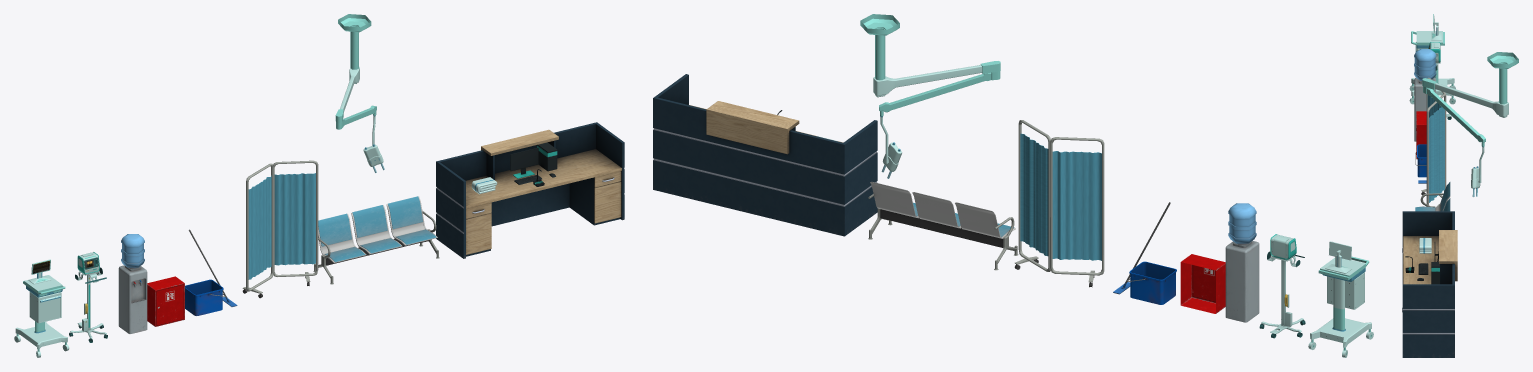
File: vr_ready_hospital_props.glb
3 renders of one model, left to right at view 1: azimuth 30°, elevation 25°; view 2: azimuth 150°, elevation 25°; view 3: azimuth 270°, elevation 25°, orthographic. The views are drawn at different scales.
Parts seen in each view (by area): view 1: reseptionDesk_geo, standingCourtains, hospitalBench, waterCooler, computerCart, powerInjector, fireExtinguisherBox, mopBucket, anesthesiaVentilator, Screen, PC; view 2: reseptionDesk_geo, standingCourtains, hospitalBench, powerInjector, waterCooler, computerCart, fireExtinguisherBox, mopBucket, anesthesiaVentilator; view 3: reseptionDesk_geo, powerInjector, standingCourtains, waterCooler, computerCart, hospitalBench, fireExtinguisherBox, mopBucket, anesthesiaVentilator, foldedBlanket_geo, PC, Keyboard.
Part boxes in pixels (x1,y1,x2,y2): reseptionDesk_geo: [436, 122, 624, 258]; standingCourtains: [242, 160, 318, 298]; hospitalBench: [313, 196, 439, 284]; waterCooler: [118, 234, 147, 333]; computerCart: [14, 259, 69, 357]; powerInjector: [335, 14, 384, 172]; fireExtinguisherBox: [147, 276, 184, 326]; mopBucket: [185, 229, 237, 315]; anesthesiaVentilator: [69, 252, 107, 342]; Screen: [510, 147, 538, 178]; PC: [537, 142, 557, 171]; reseptionDesk_geo: [653, 74, 877, 236]; standingCourtains: [1014, 120, 1104, 287]; hospitalBench: [868, 182, 1018, 270]; powerInjector: [860, 14, 1000, 178]; waterCooler: [1225, 203, 1259, 322]; computerCart: [1308, 241, 1373, 357]; fireExtinguisherBox: [1180, 254, 1225, 313]; mopBucket: [1113, 202, 1176, 304]; anesthesiaVentilator: [1259, 234, 1305, 338]; reseptionDesk_geo: [1402, 211, 1457, 357]; powerInjector: [1422, 52, 1518, 196]; standingCourtains: [1421, 77, 1446, 206]; waterCooler: [1414, 49, 1436, 141]; computerCart: [1409, 14, 1455, 104]; hospitalBench: [1415, 182, 1450, 211]; fireExtinguisherBox: [1416, 111, 1426, 159]; mopBucket: [1415, 144, 1426, 183]; anesthesiaVentilator: [1428, 42, 1451, 119]; foldedBlanket_geo: [1419, 238, 1431, 253]; PC: [1431, 262, 1439, 284]; Keyboard: [1418, 263, 1428, 274].
Size of the model in its own units: 10.79 by 3.77 by 1.99.
9 materials, 9 textured.
